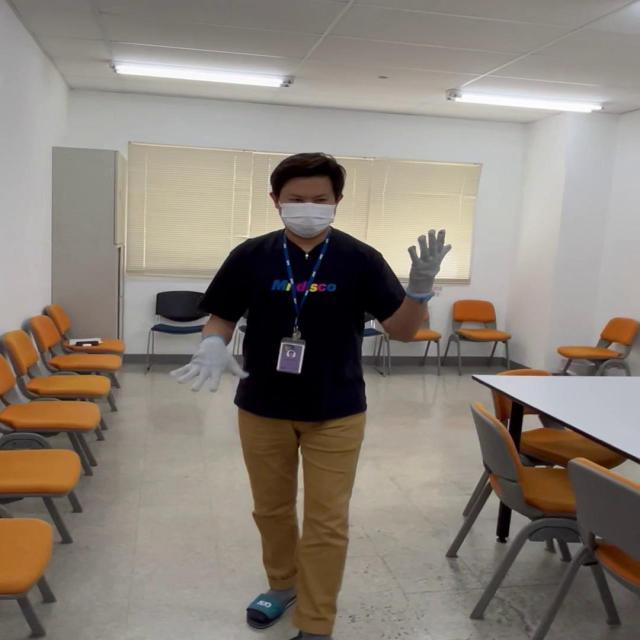gloved_hand: (177, 338, 255, 398), (402, 228, 457, 296)
